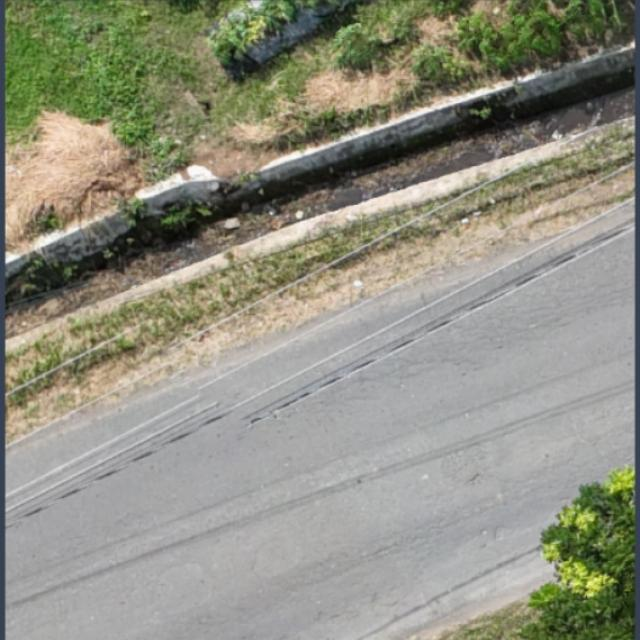crack: (262, 207, 638, 422), (11, 415, 223, 526)
road: (0, 196, 640, 640)
